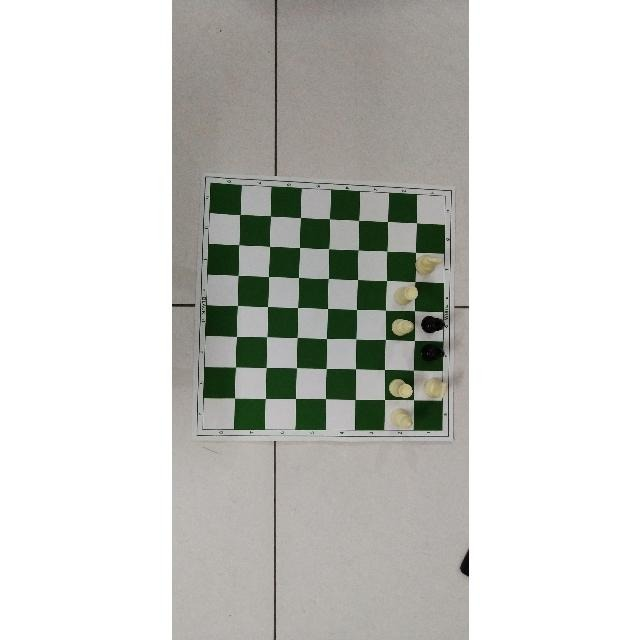black-bishop: (419, 344, 444, 363), (420, 316, 444, 334)
white-bishop: (388, 408, 413, 428), (390, 318, 413, 337)
white-knight: (422, 377, 447, 398), (414, 256, 443, 274)
white-rook: (387, 378, 412, 399), (394, 286, 418, 304)
